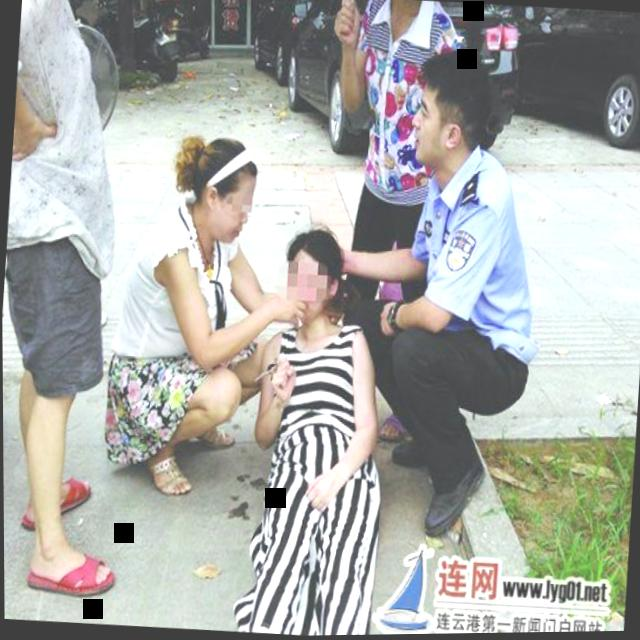Fall-Detected: (229, 205, 406, 637)
